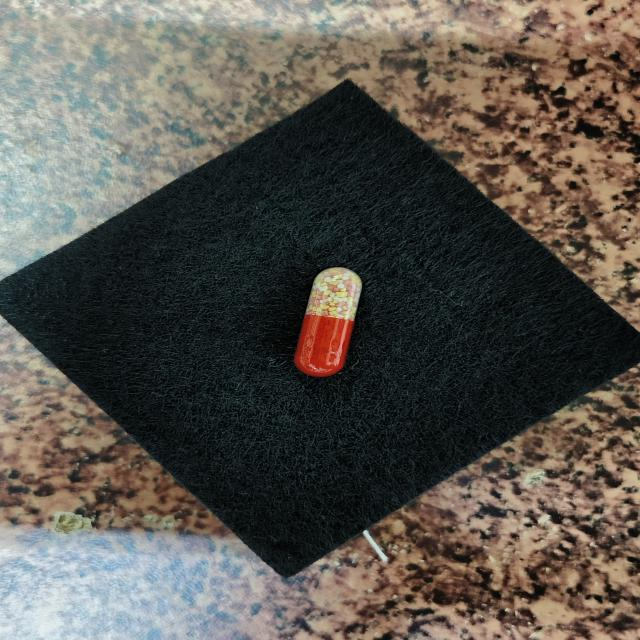Intact Capsule: (294, 267, 362, 376)
